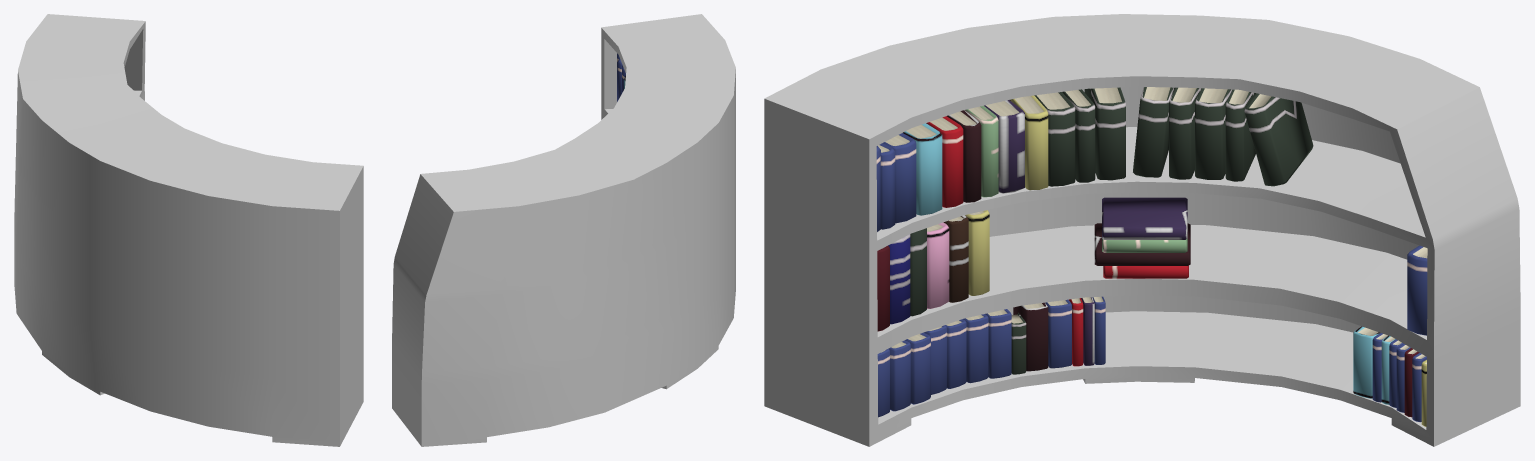
File: shelf.glb
3 views of the same model, side by side, from view 1: azimuth 30°, elevation 25°; view 2: azimuth 150°, elevation 25°; view 3: azimuth 270°, elevation 25° (orthographic). The views are drawn at different scales.
Visible parts, largest first — view 1: shelf-col; view 2: shelf-col; view 3: shelf-col, books.
Boxes of the visible parts, left/top/right/bottom form: shelf-col: left=14, top=14, right=363, bottom=446; shelf-col: left=392, top=14, right=735, bottom=446; shelf-col: left=764, top=14, right=1520, bottom=446; books: left=876, top=87, right=1427, bottom=426.
Bounding box in the file's own units: 0.8884 × 1.02 × 2.27.
Materials: 1 (1 with a texture image).
